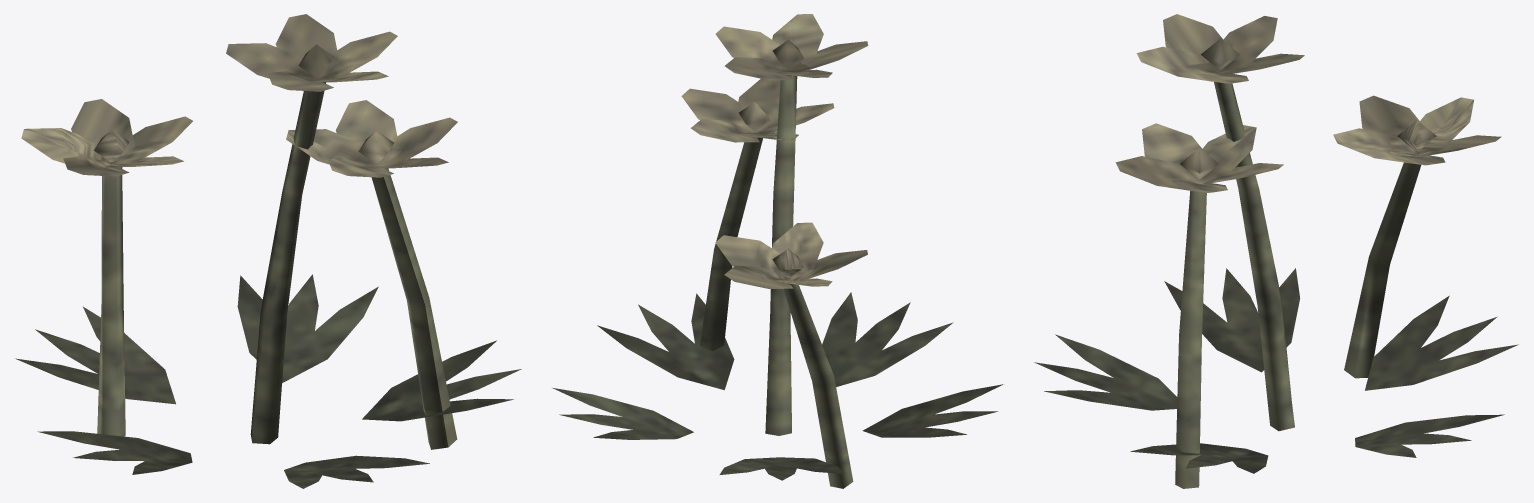
Rendered from flower_crowsfoot.glb.
3 views of the same model, side by side, from view 1: azimuth 30°, elevation 25°; view 2: azimuth 150°, elevation 25°; view 3: azimuth 270°, elevation 25° (orthographic). The views are drawn at different scales.
Parts seen in each view (by area): view 1: flower_crowsfoot; view 2: flower_crowsfoot; view 3: flower_crowsfoot.
Boxes of the visible parts, x1,y1,x2,y2 form: flower_crowsfoot: (15, 14, 521, 488); flower_crowsfoot: (552, 14, 1003, 488); flower_crowsfoot: (1034, 14, 1518, 488).
Size of the model in its own units: 0.3995 by 0.36 by 0.3984.
Materials: 1 (1 with a texture image).
